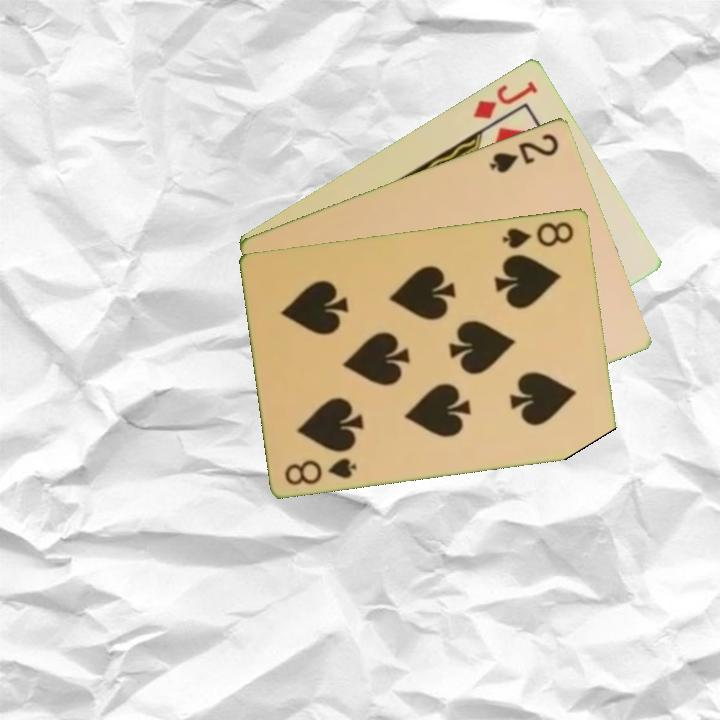2s: (485, 129, 562, 176)
8s: (281, 454, 360, 488), (499, 217, 577, 251)
Jd: (469, 77, 541, 122)
